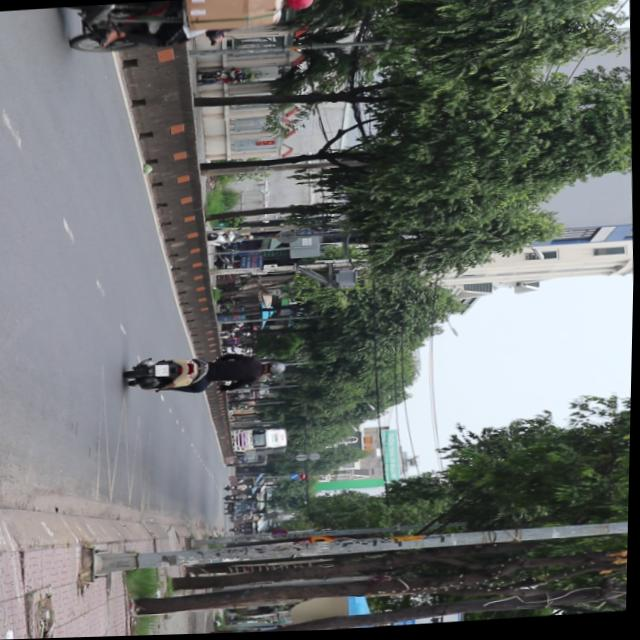helmet: (278, 0, 314, 13), (264, 361, 290, 377)
licenseplate: (52, 0, 318, 58), (125, 348, 289, 398)
nohelmet: (156, 364, 171, 377)
